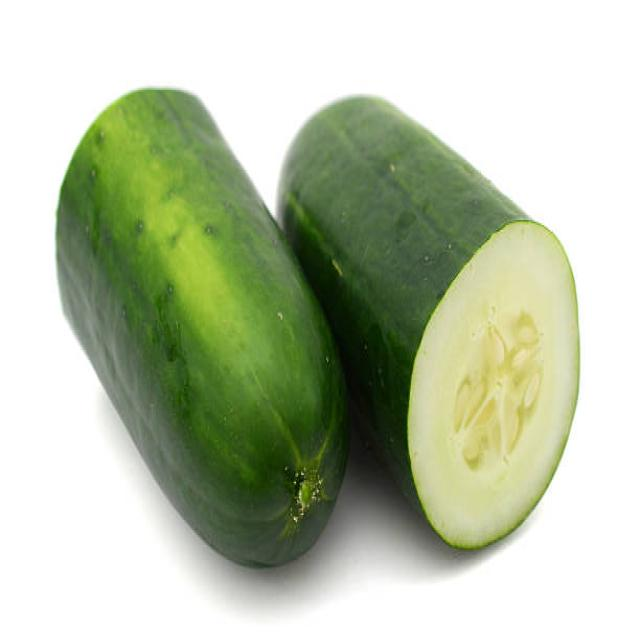cucumber: (53, 85, 347, 566), (274, 93, 580, 552)
